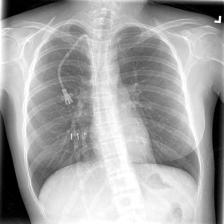normal: (20, 15, 207, 224)
